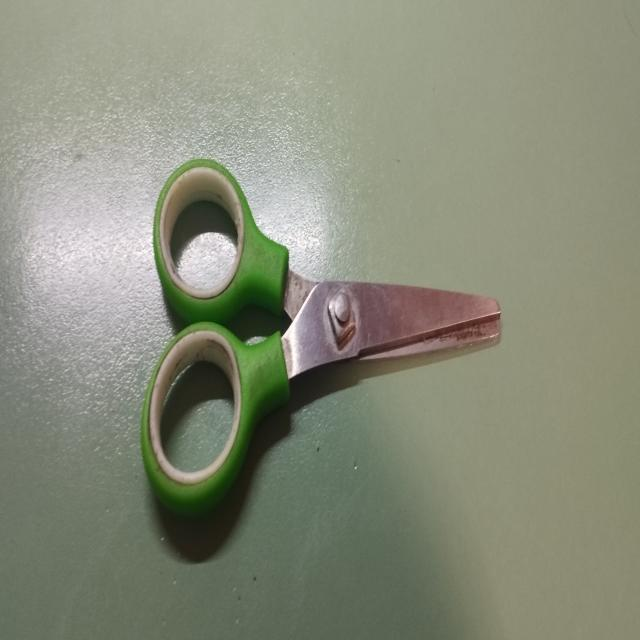tesoura: (134, 145, 504, 528)
